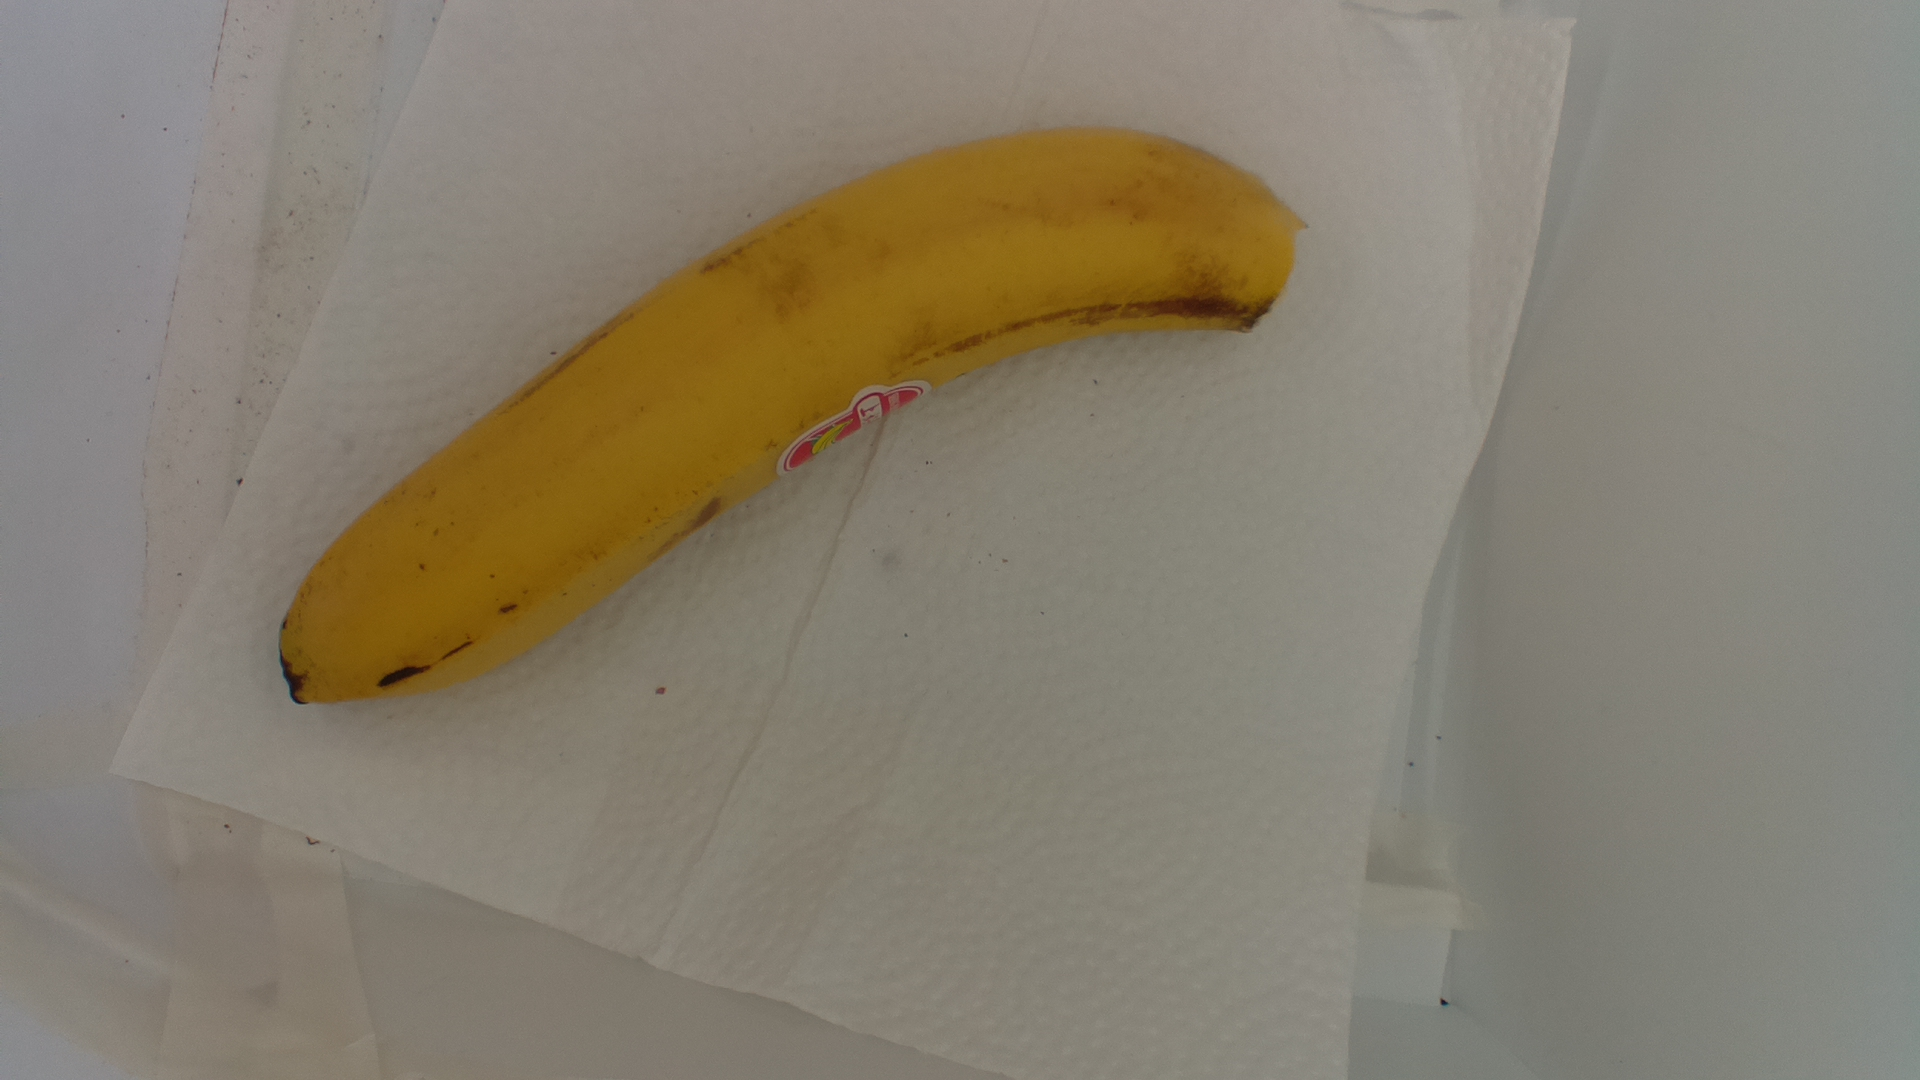fruit: (266, 123, 1315, 735)
